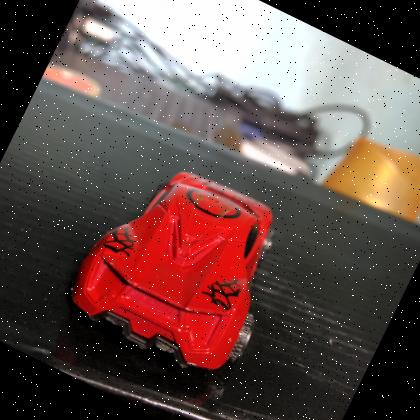Car: (51, 132, 316, 398)
